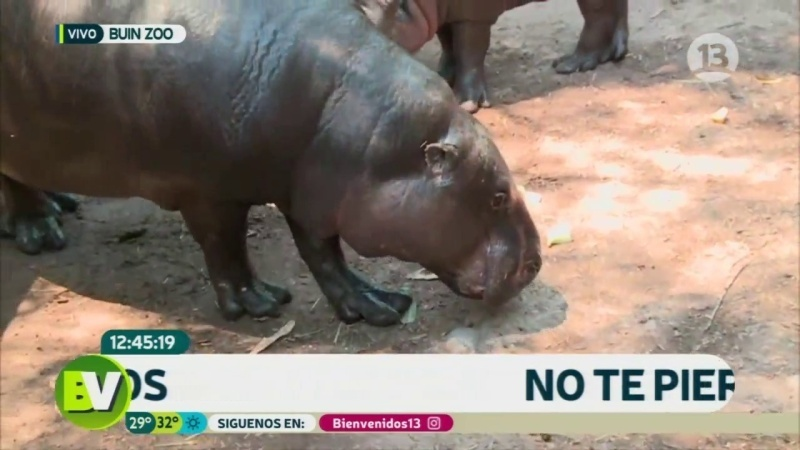hipopotamo: (1, 1, 565, 342)
